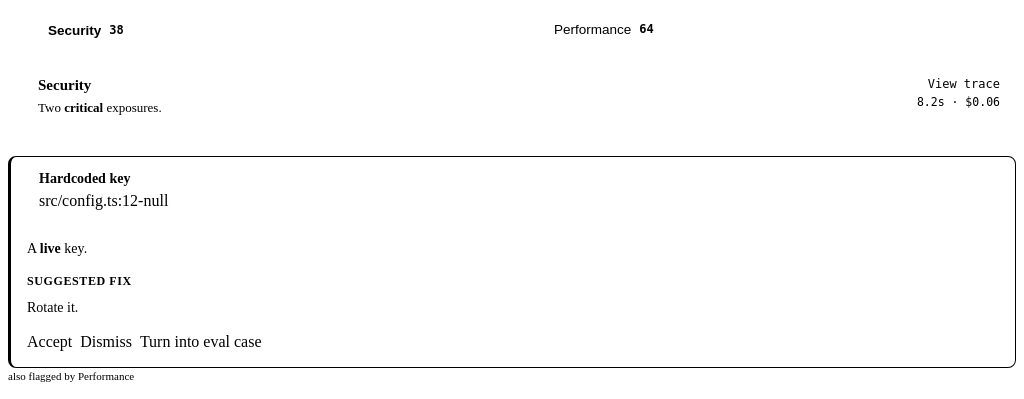
it: TabsView › switching tabs shows that agent's summary fallback and empty findings
This screenshot has width=1024, height=399.
Click the tab "Performance 64".
click(593, 29)  # box [514, 8, 1016, 50]
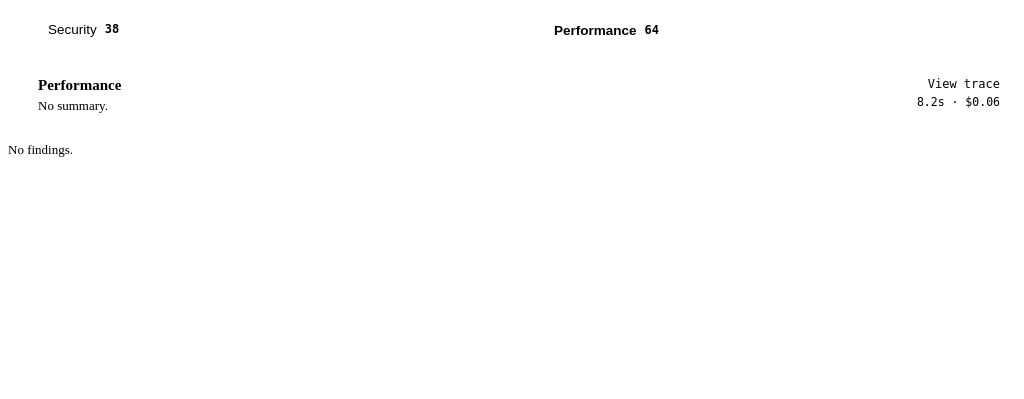
Expected: the text "No summary." is shown, [38, 98, 108, 113]
Expected: the text "No findings." is shown, [8, 142, 73, 157]
Expected: the text "Hardcoded key" is gone
